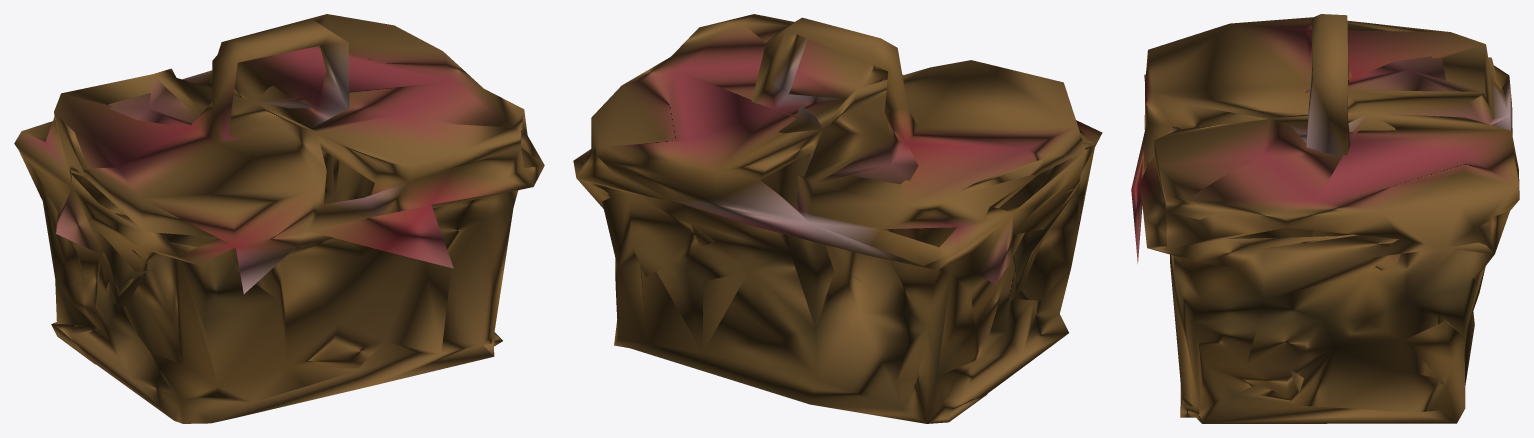
Rendered from gen3d-picnic-basket-lod1.glb.
3 views of the same model, side by side, from view 1: azimuth 30°, elevation 25°; view 2: azimuth 150°, elevation 25°; view 3: azimuth 270°, elevation 25° (orthographic). The views are drawn at different scales.
Parts seen in each view (by area): view 1: part_0; view 2: part_0; view 3: part_0.
Part boxes in pixels (x1,y1,x2,y2): part_0: [14, 14, 544, 423]; part_0: [573, 14, 1102, 423]; part_0: [1131, 14, 1519, 423].
Size of the model in its own units: 1.33 by 0.9882 by 1.11.
